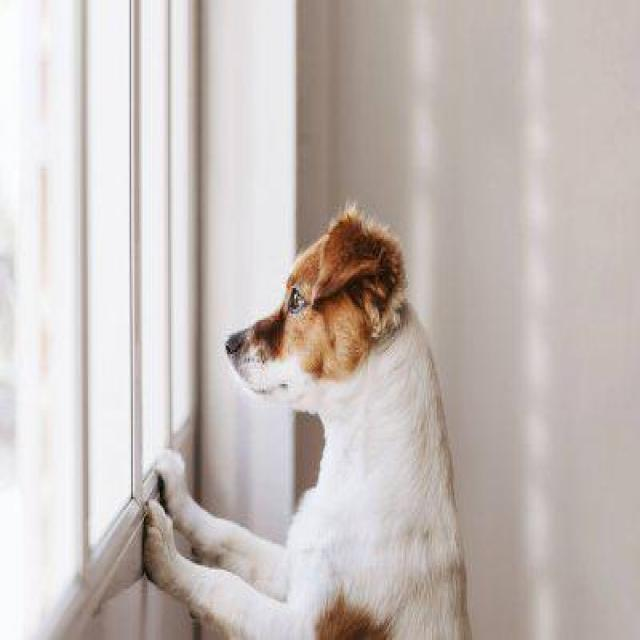Dog: (218, 198, 441, 426)
